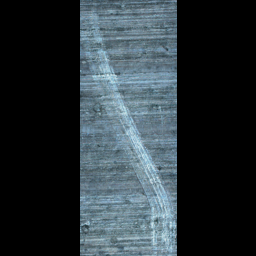d: (148, 180, 176, 255), (84, 12, 112, 78), (102, 69, 129, 135), (127, 134, 153, 188)
